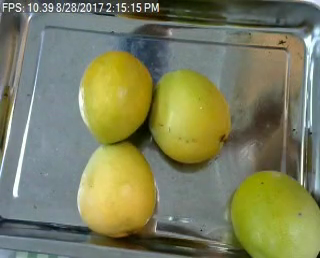Mango: (72, 139, 160, 242), (224, 161, 318, 254), (146, 68, 232, 167), (72, 52, 149, 146)
